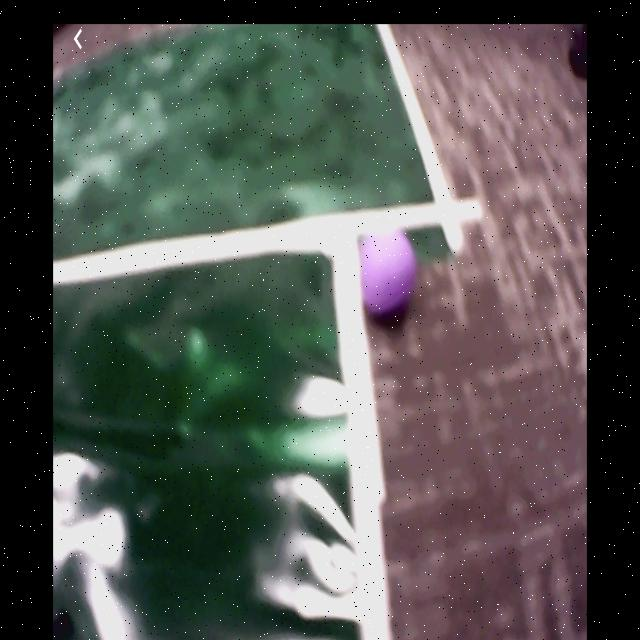ball: (360, 228, 418, 316)
